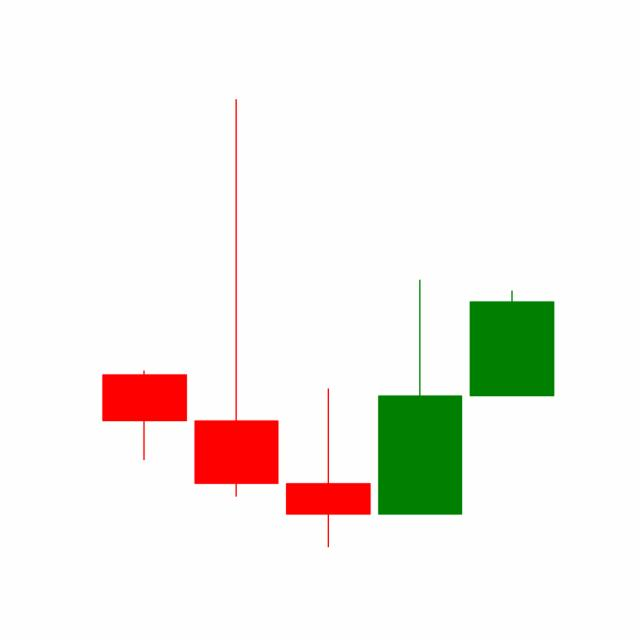Marubozu: (464, 289, 558, 397)
